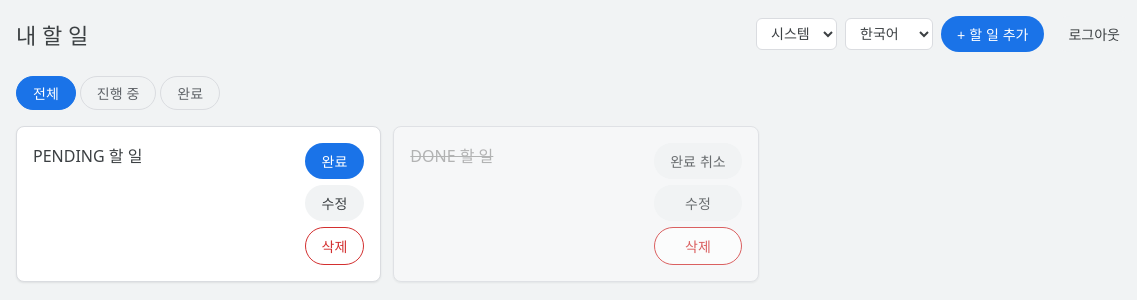
Test: TodoListPage › 완료 탭 클릭 시 DONE 항목만 표시
Expected: the text "DONE 할 일" is shown, [410,143,493,167]
Step 1. Click the 1st button "완료" → coordinates (190, 93), box [160,76,220,110]
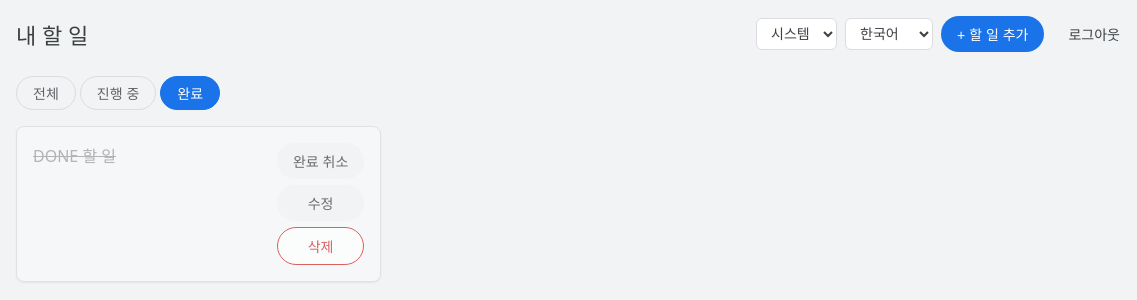
Expected: the text "DONE 할 일" is shown, [33,143,116,167]
Expected: the text "PENDING 할 일" is gone
